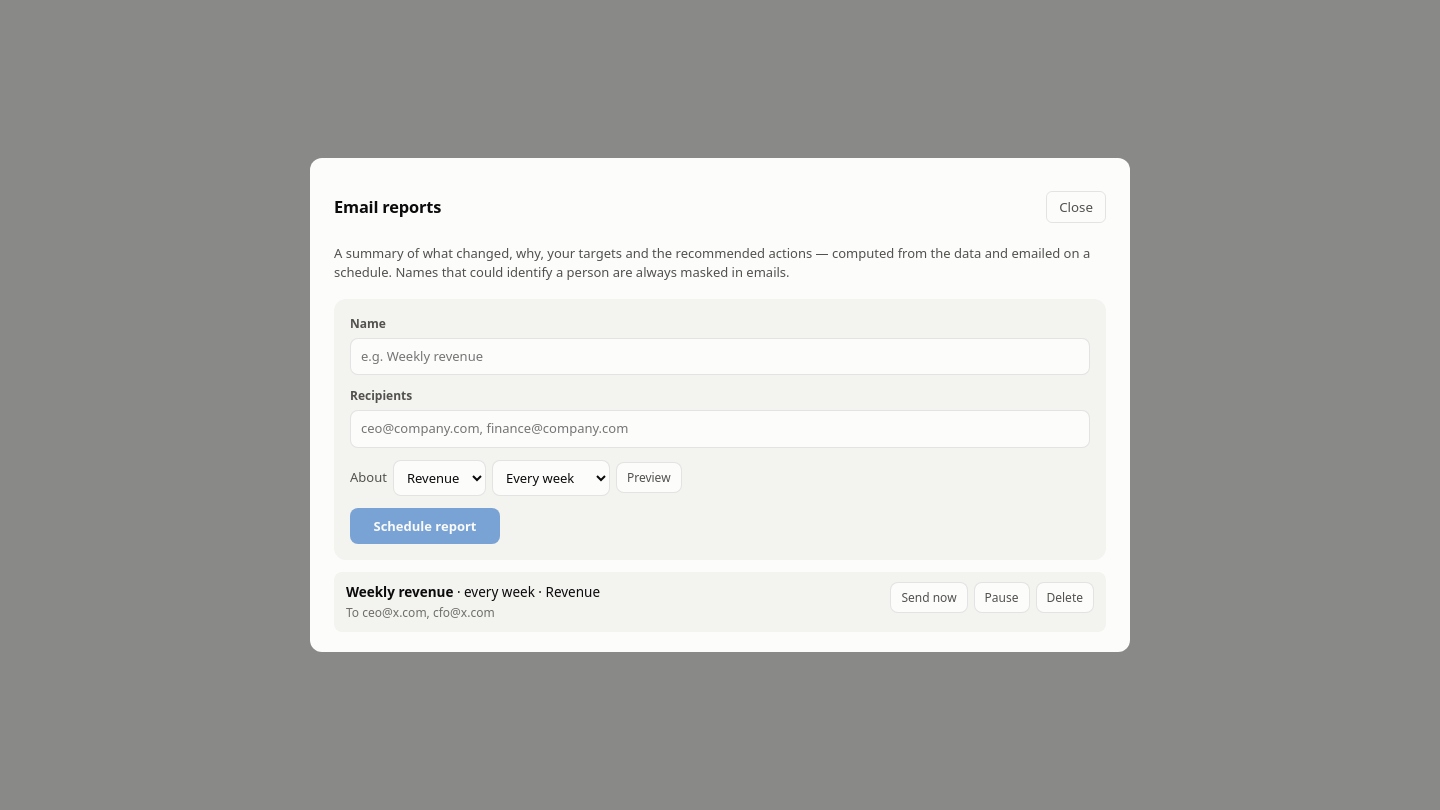
it: ReportsDialog › sends now and says to how many people
The width and height of the screenshot is (1440, 810).
Click the button "Send now": x=929, y=597 [890,582,968,612]
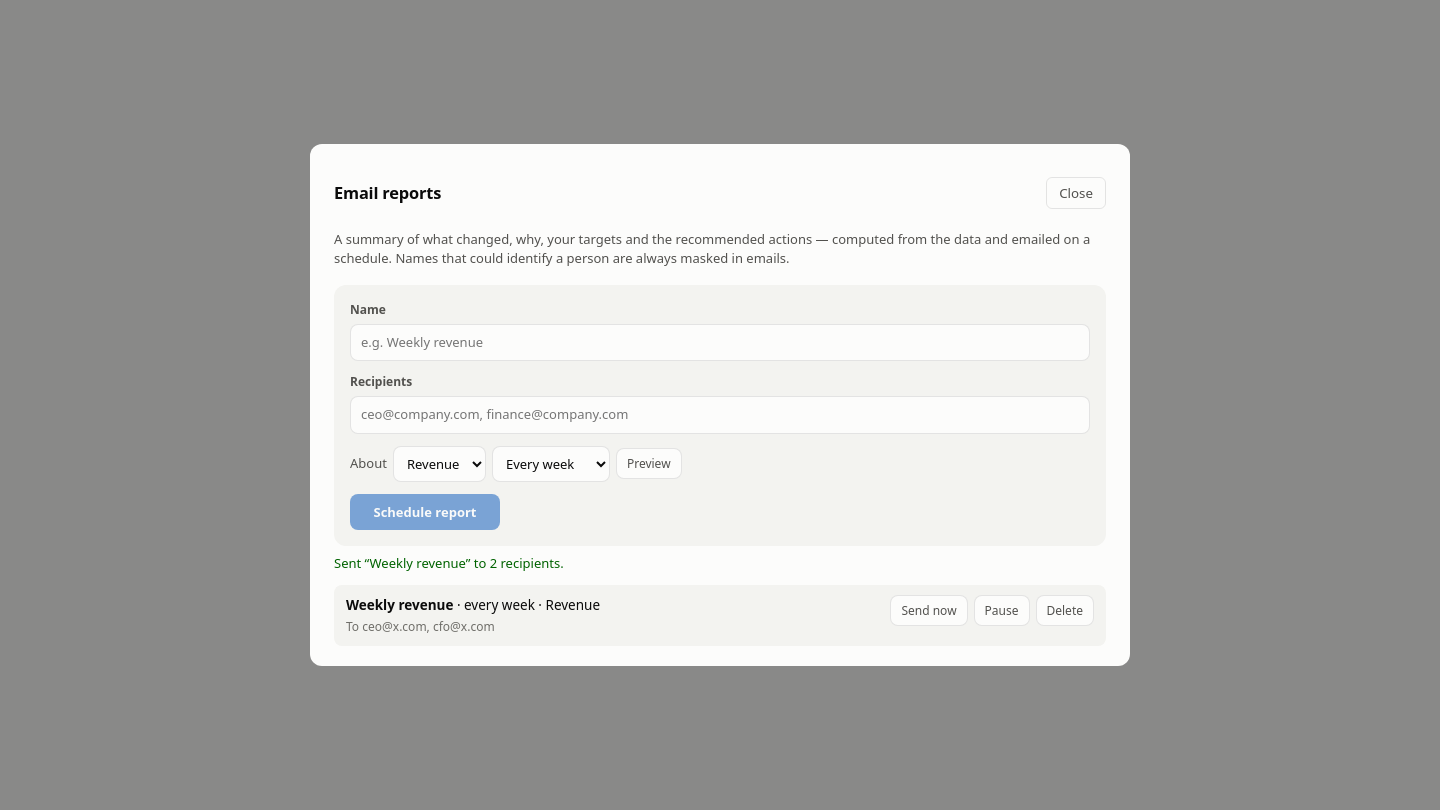
Now the text "Sent “Weekly revenue” to 2 recipients." is shown, box [334,554,564,572]
